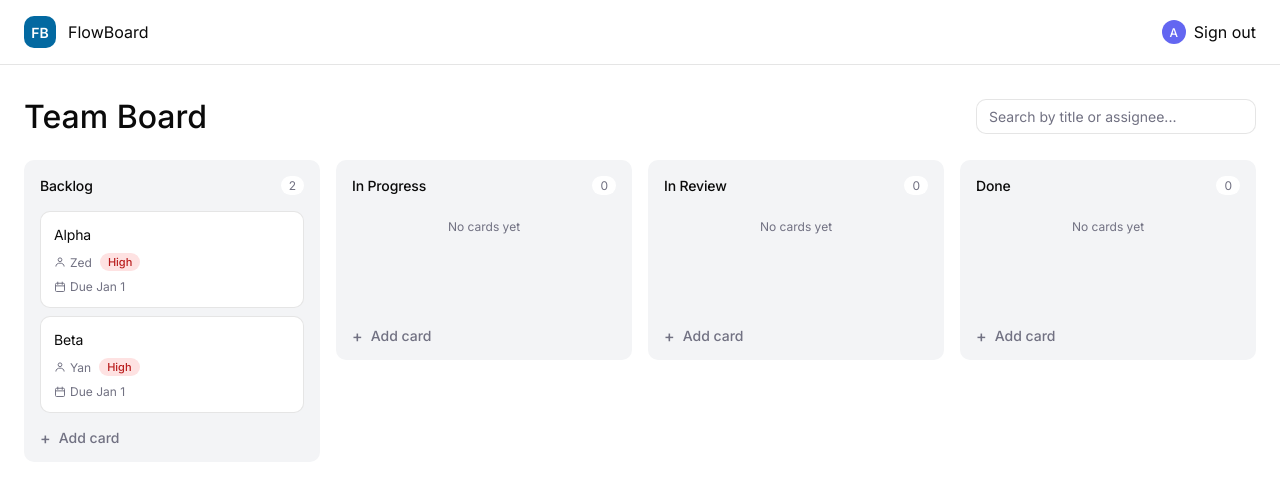
Test: search › filters by title or assignee, case-insensitively
expect the heading "Team Board" is shown: met, box [24, 97, 207, 136]
Type "alp" into the search field named "Search cards" at (1116,116), box [976, 99, 1256, 134]
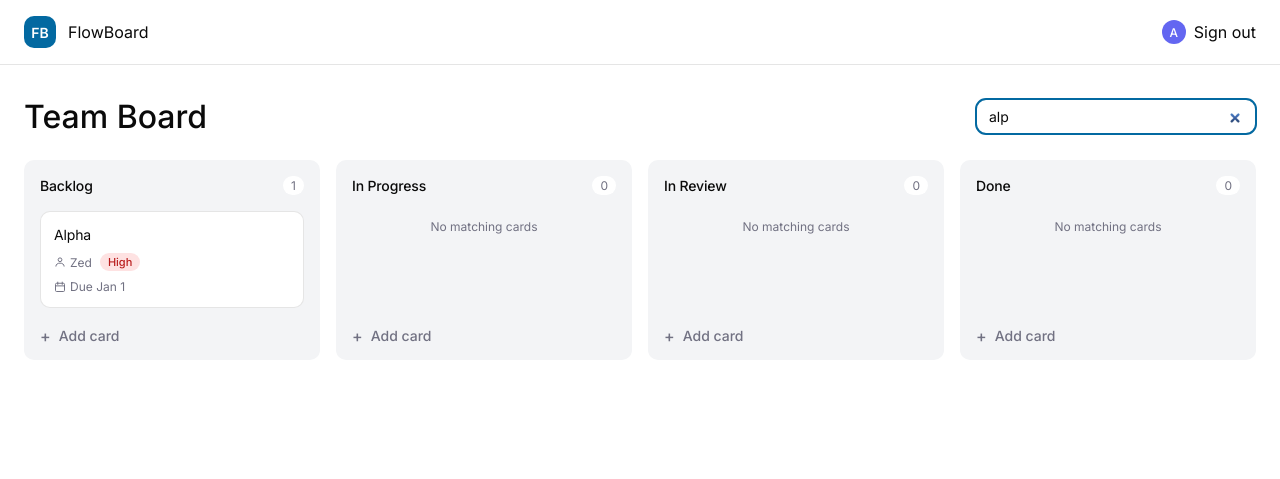
expect the text "Alpha" is shown: met, box [54, 225, 91, 245]
expect the button "Beta" is gone: met
Replace the text in the search field named "Search cards" with " YAN " at (1116,116), box [976, 99, 1256, 134]
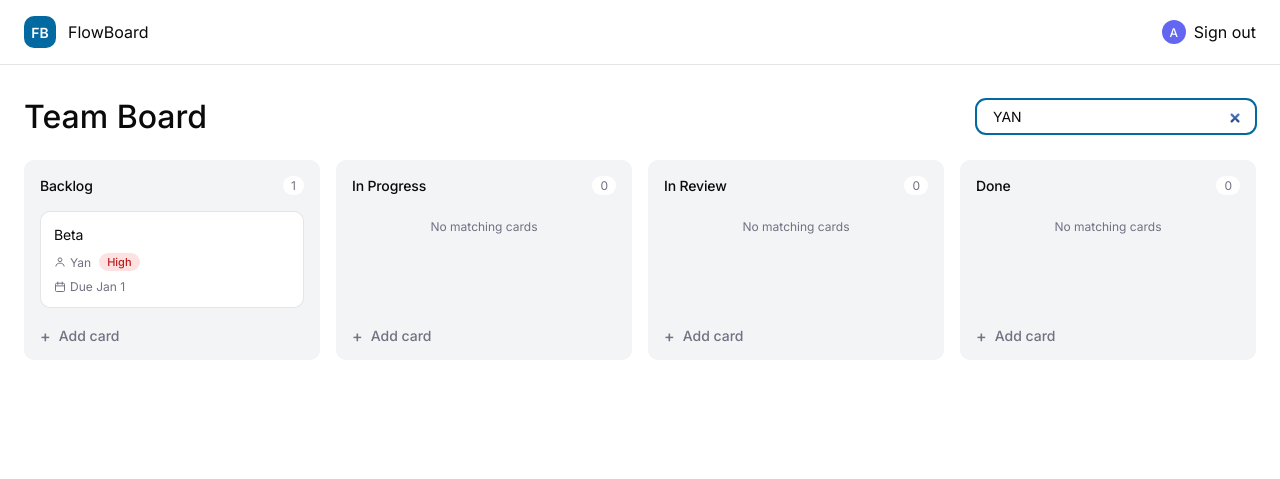
expect the text "No matching cards" below "In Progress" is shown: met, box [430, 219, 538, 234]
expect the text "Beta" is shown: met, box [54, 225, 83, 245]
expect the button "Alpha" is gone: met
